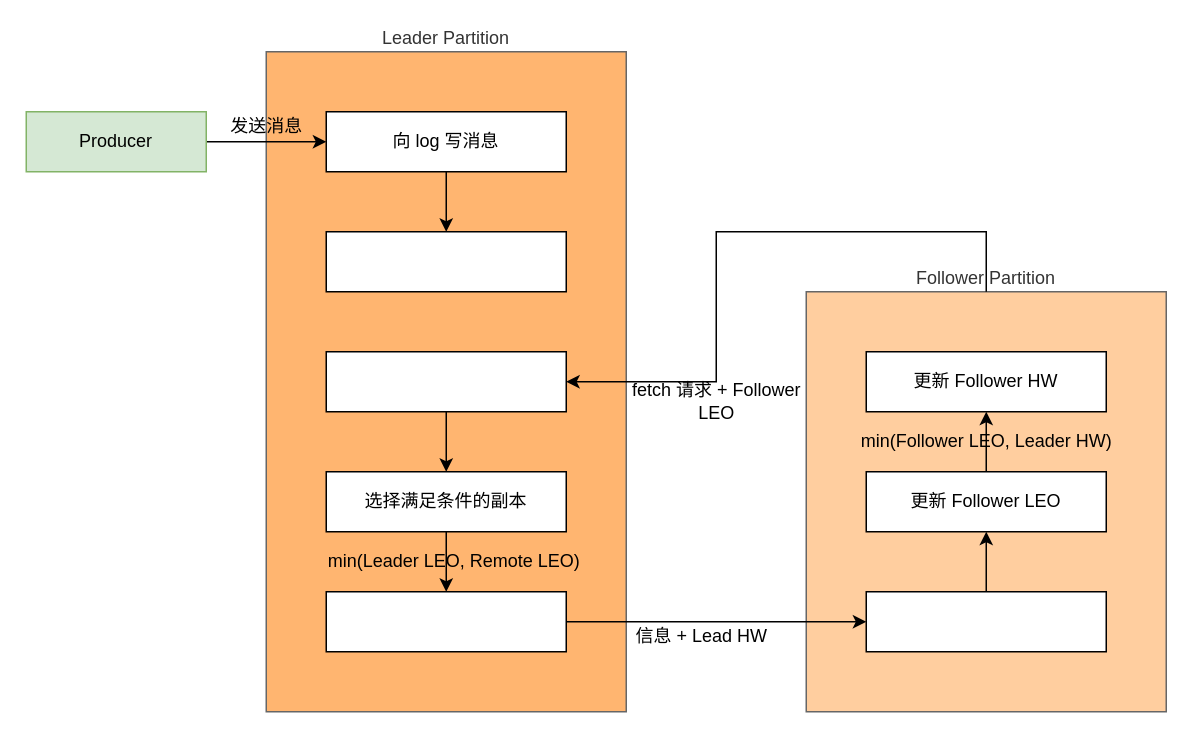
This 1193x738 diagram has some shape labels left out. Here are the shapes that lost their labels. From the top down, the centre of each, then its label:
At (445,261): "更新 Leader LEO".
At (445,381): "更新 Remote LEO".
At (445,621): "更新 Leader HW".
At (985,621): "向 log 写信息".
